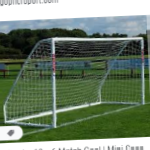goals: (3, 35, 149, 130)
